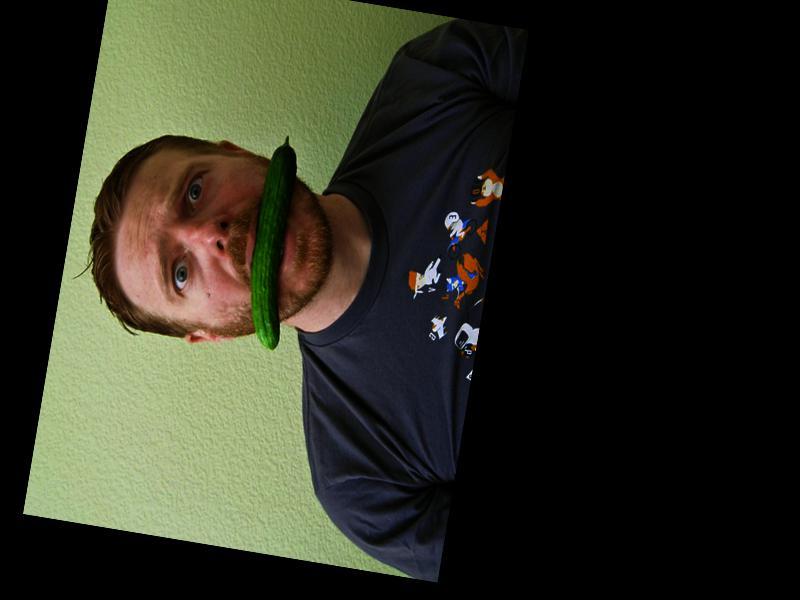Cucumber: (237, 133, 312, 353)
